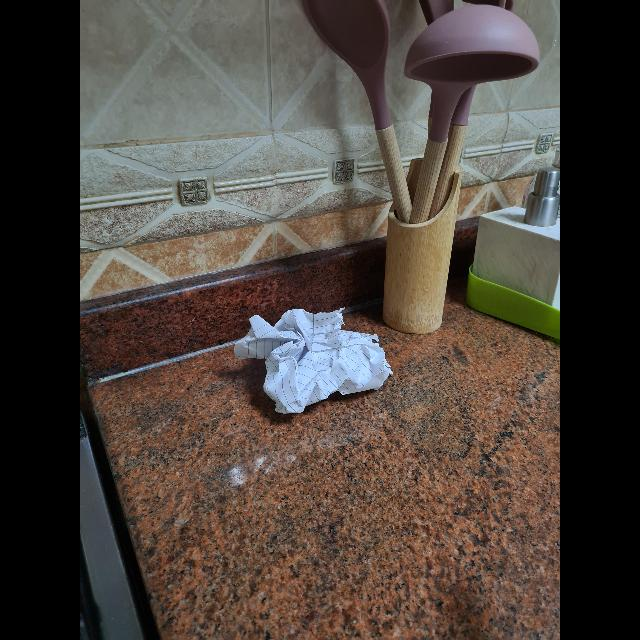scrap_paper: (236, 298, 400, 420)
